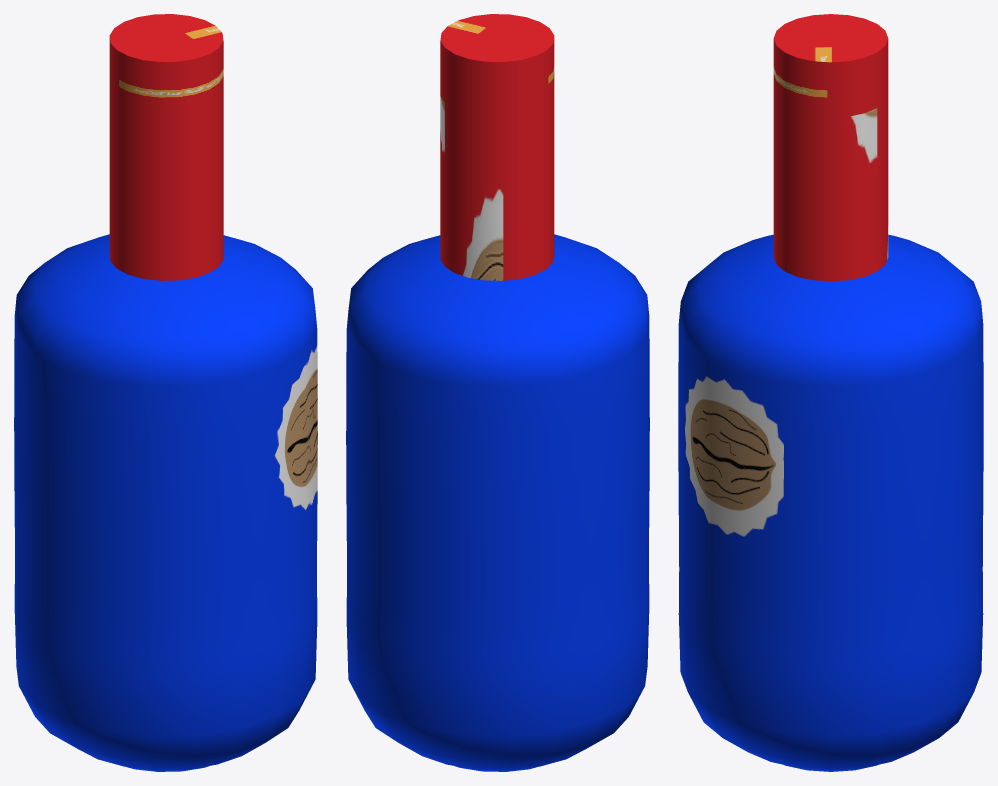
The model's file is Bottle1.fbx.
3 views of the same model, side by side, from view 1: azimuth 30°, elevation 25°; view 2: azimuth 150°, elevation 25°; view 3: azimuth 270°, elevation 25° (orthographic).
Visible parts, largest first — view 1: Corpo, Tappo2; view 2: Corpo, Tappo2; view 3: Corpo, Tappo2.
Boxes of the visible parts, left/top/right/bottom form: Corpo: left=14, top=234, right=317, bottom=771; Tappo2: left=109, top=14, right=223, bottom=280; Corpo: left=346, top=234, right=649, bottom=771; Tappo2: left=440, top=14, right=554, bottom=280; Corpo: left=678, top=234, right=983, bottom=771; Tappo2: left=773, top=14, right=888, bottom=281.
Bounding box in the file's own units: 0.0104 × 0.0263 × 0.0104.
